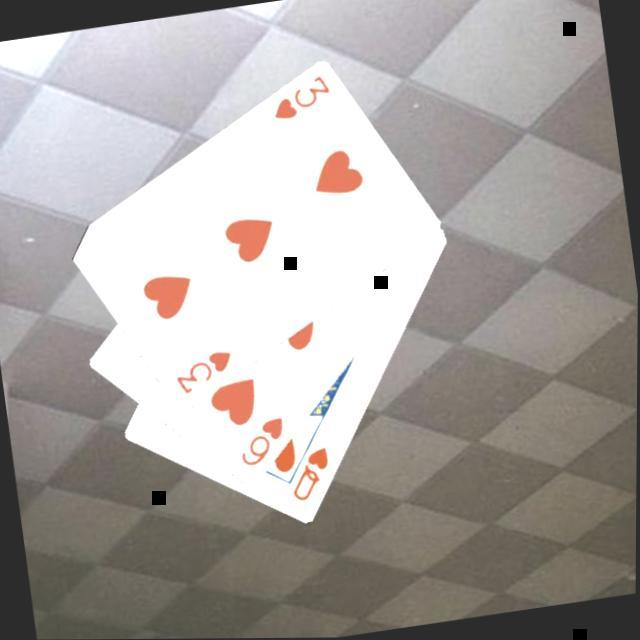3H: (268, 73, 340, 127), (172, 348, 242, 401)
6H: (236, 414, 294, 474)
QH: (286, 446, 340, 508)
